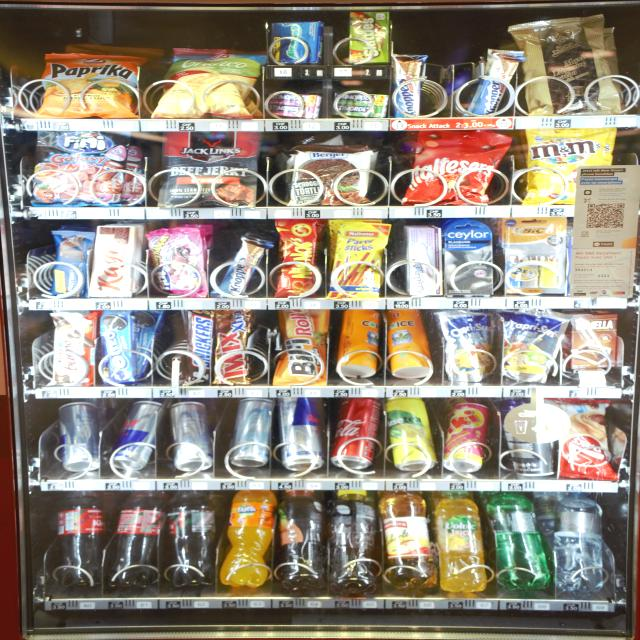7days_croissantschoko_packung_80_1_0000000000003: (561, 395, 619, 478)
airwaves_menthoneucalyptus_riegel_14_1_50173167: (266, 18, 324, 64)
berger____: (285, 143, 380, 212)
bifi_roll__50__4251097402635: (270, 306, 330, 384)
bueno___43__4008400320328: (51, 311, 97, 384)
c-swiss_dosenabisicetea__33__9120025930135: (336, 304, 385, 382), (390, 303, 433, 380)
caferoyal_classicmacchiato__33__7617014164487: (499, 398, 554, 478)
caprisun_multivitamin__20__4000177605004: (494, 309, 570, 384), (429, 307, 497, 383)
coke__flasche_50__54491472: (108, 489, 168, 592), (52, 488, 108, 592), (330, 395, 388, 469)
coke_zero_flasche_50__5449000131836: (165, 490, 219, 596)
comella_schokodrink__33__7613100037253: (565, 308, 626, 384)
fanta___50__40822938: (222, 484, 276, 593)
fini_galaxymix_packung_100_1_8410525150364: (34, 131, 146, 208)
fini_jellykisses_packung_80_1_8410525116704: (151, 225, 207, 295)
fuse_lemon__50__5449000235947: (330, 488, 383, 592)
fuse_lemon_dose_33__5449000235947: (386, 396, 436, 471)
fuse_peach__50__5449000236623: (274, 489, 329, 592)
jacklinks_beefjerkyorginal__25__4047751730219: (151, 126, 263, 212)
jlbrichard_gauffrechoko__90__5410495002079: (524, 23, 621, 112)
kagi___50__7610046000259: (83, 222, 140, 299)
knoppers_riegel____4035800488808: (466, 40, 524, 116), (211, 234, 268, 300), (388, 50, 430, 119)
lorenz_nicnacs__40__4018077798818: (267, 212, 331, 301)
malburner_partysticks__40__7610200279682: (328, 218, 392, 302)
maltesers___100__5000159023061: (402, 125, 504, 204)
mnms_gelb__45__40111445: (520, 125, 619, 207)
oreo___66__84100733: (91, 304, 140, 386)
powerbar_proteinplusschoko__55__4029679520028: (50, 228, 94, 298)
ramseier_schorle__50__7610057012456: (378, 486, 438, 598)
redbull___33__90162909: (106, 398, 167, 475), (56, 402, 104, 474), (165, 400, 212, 472)
redbull_light__33__90162800: (226, 396, 278, 462)
skittles_sour_riegel_51_1_: (348, 8, 394, 65)
snickers___50__5000159461122: (181, 308, 216, 382)
stimorol_spearmint_riegel_14_1_: (332, 89, 385, 120)
stimorol_wildcherry_riegel_14_1_57060330: (263, 90, 320, 120)
tiki_himbeerbrause_dose_33_1_: (443, 402, 487, 468)
twix___50__5000159459228: (218, 306, 258, 384)
valser_classic__50__76404160: (488, 492, 552, 589)
valser_still__50__7610335002575: (554, 490, 609, 598)
volvic_pinapple__50__305764335648: (427, 487, 487, 592)
zweifel_graneochilli__100__7610095184009: (161, 46, 264, 113)
zweifel_paprika__90__7610095013002: (34, 51, 139, 120)
